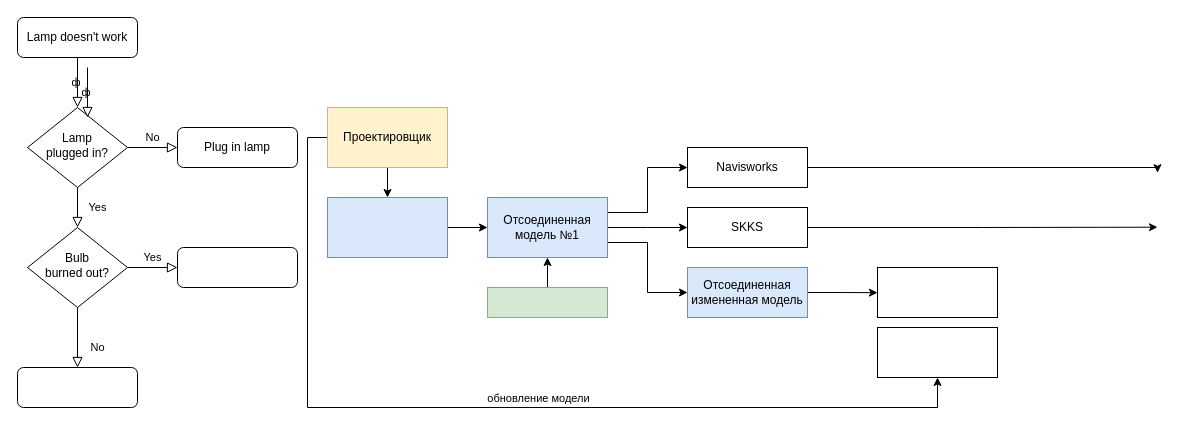
The diagram is 1183 pixels wide and 433 high, and some of its shapes have lost their labels. The shapes that lost their labels are listed below. From the top down, each one's centre as x and y in pixels, then its label:
the point at 387,227: Модель №1
the point at 237,267: Replace Bulb
the point at 547,302: Ведущий инженер
the point at 937,352: Обновленная модель
the point at 77,387: Repair Lamp
